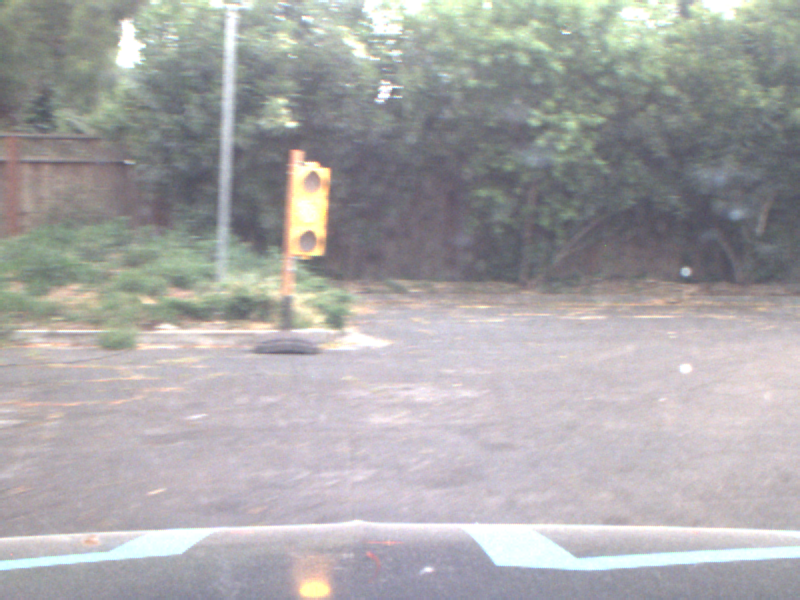Yellow: (292, 162, 325, 254)
